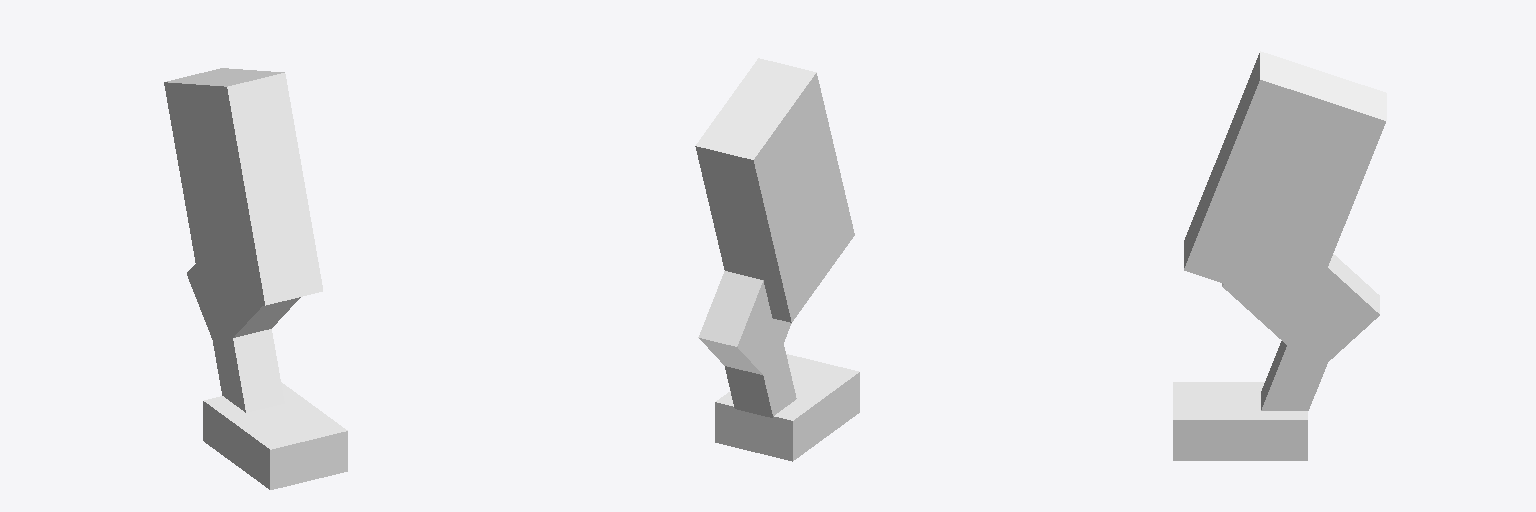
Rendered from meng_hind_right_leg.obj.
The picture shows the model from 3 angles: view 1: azimuth 30°, elevation 25°; view 2: azimuth 150°, elevation 25°; view 3: azimuth 270°, elevation 25°; orthographic projection.
Visible parts, largest first — view 1: Element #3, Element #10, Element #5, Element #6; view 2: Element #3, Element #10, Element #6, Element #5; view 3: Element #3, Element #10, Element #6, Element #5.
Part boxes in pixels (left/top/right/bottom): Element #3: left=164, top=68, right=322, bottom=305; Element #10: left=203, top=382, right=347, bottom=489; Element #5: left=207, top=302, right=284, bottom=412; Element #6: left=187, top=264, right=300, bottom=352; Element #3: left=695, top=58, right=854, bottom=322; Element #10: left=715, top=354, right=859, bottom=461; Element #6: left=698, top=271, right=791, bottom=380; Element #5: left=725, top=344, right=796, bottom=417; Element #3: left=1184, top=51, right=1386, bottom=308; Element #10: left=1173, top=382, right=1307, bottom=460; Element #6: left=1222, top=229, right=1379, bottom=360; Element #5: left=1261, top=297, right=1348, bottom=410.
Bounding box in the file's own units: 2 × 9.16 × 4.76.